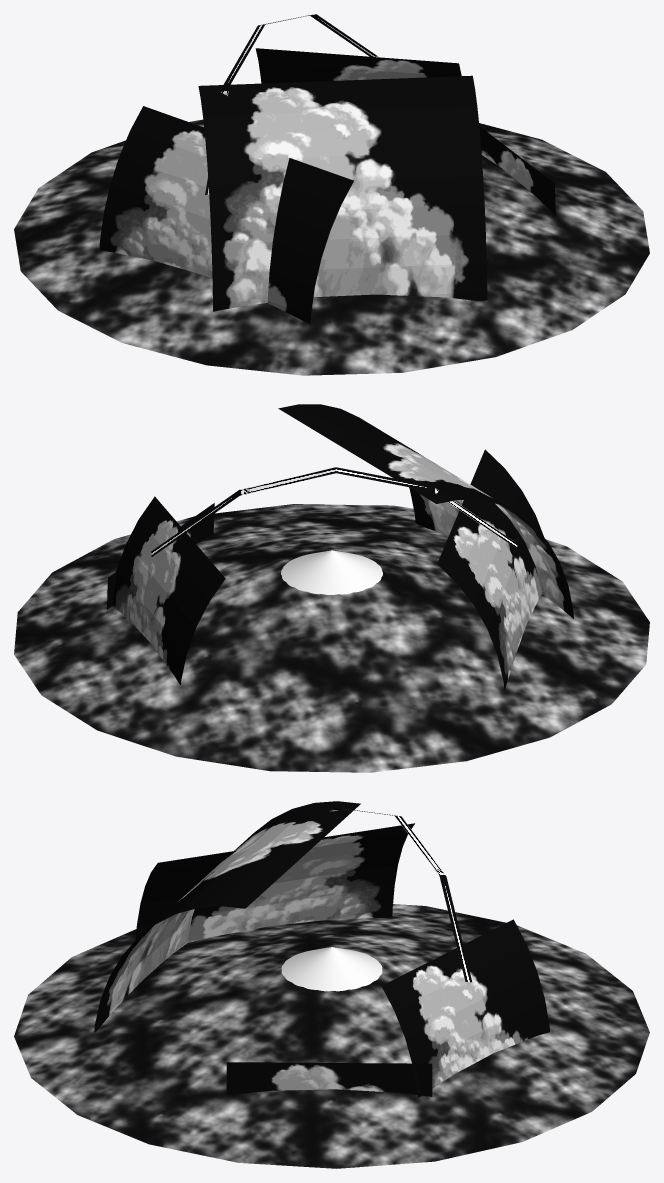
The model's file is sky_bake.dae.
The picture shows the model from 3 angles, top to bottom: view 1: azimuth 30°, elevation 25°; view 2: azimuth 150°, elevation 25°; view 3: azimuth 270°, elevation 25°; orthographic projection.
Visible parts, largest first — view 1: m2, m1, m3; view 2: m1, m2, m0, m3; view 3: m1, m2, m0, m3.
Boxes of the visible parts, x1=… form: m2: x1=99, y1=48, x2=555, y2=324; m1: x1=14, y1=119, x2=649, y2=375; m3: x1=205, y1=14, x2=377, y2=194; m1: x1=14, y1=504, x2=649, y2=772; m2: x1=107, y1=404, x2=573, y2=690; m0: x1=281, y1=550, x2=382, y2=594; m3: x1=151, y1=467, x2=517, y2=556; m1: x1=14, y1=904, x2=649, y2=1168; m2: x1=94, y1=801, x2=549, y2=1097; m0: x1=281, y1=947, x2=382, y2=991; m3: x1=329, y1=808, x2=472, y2=982.
Size of the model in its own units: 299965 by 150363 by 299965.
Materials: 6 (5 with a texture image).
